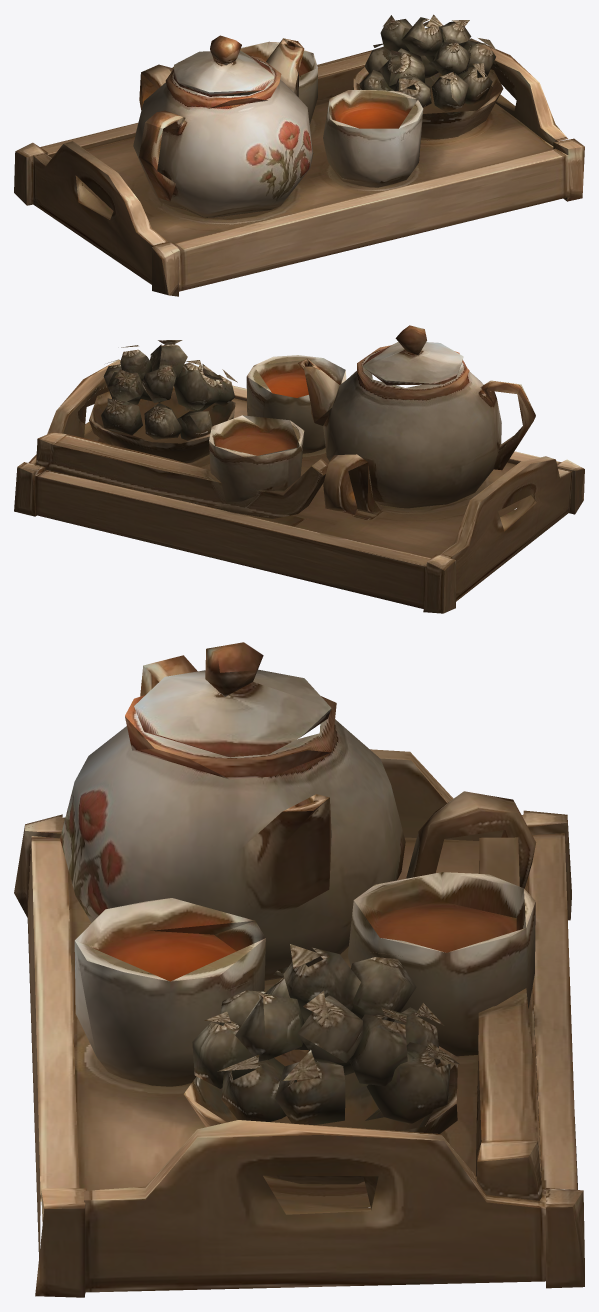
File: act1_extras_v1_poppy_tea_tray.glb
3 renders of one model, top to bottom at view 1: azimuth 30°, elevation 25°; view 2: azimuth 150°, elevation 25°; view 3: azimuth 270°, elevation 25°, orthographic. The views are drawn at different scales.
Visible parts, largest first — view 1: A19_2_poppy_tea_tray; view 2: A19_2_poppy_tea_tray; view 3: A19_2_poppy_tea_tray.
Boxes of the visible parts, bbox=[...] form: A19_2_poppy_tea_tray: bbox=[14, 14, 584, 296]; A19_2_poppy_tea_tray: bbox=[14, 325, 584, 613]; A19_2_poppy_tea_tray: bbox=[14, 642, 584, 1297].
Bounding box in the file's own units: 0.9995 × 0.4404 × 0.6064.
Materials: 1 (1 with a texture image).
